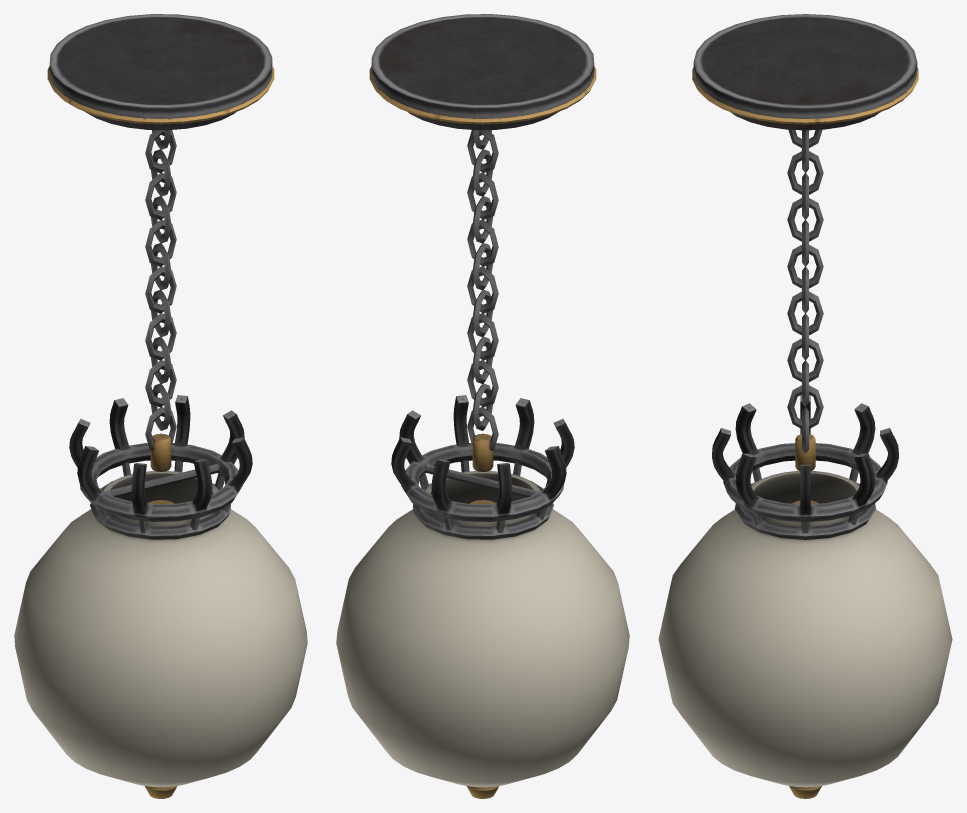
File: DormCeilingLight.fbx
3 renders of one model, left to right at view 1: azimuth 30°, elevation 25°; view 2: azimuth 150°, elevation 25°; view 3: azimuth 270°, elevation 25°, orthographic.
Parts seen in each view (by area): view 1: DormCeilingLight_Glass, DormCeilingLight_Main; view 2: DormCeilingLight_Glass, DormCeilingLight_Main; view 3: DormCeilingLight_Glass, DormCeilingLight_Main.
Boxes of the visible parts, x1,y1,x2,y2 form: DormCeilingLight_Glass: [14, 471, 307, 787]; DormCeilingLight_Main: [47, 14, 274, 798]; DormCeilingLight_Glass: [336, 471, 629, 787]; DormCeilingLight_Main: [369, 14, 596, 798]; DormCeilingLight_Glass: [658, 471, 952, 787]; DormCeilingLight_Main: [692, 14, 918, 798].
Bounding box in the file's own units: 100 × 275 × 100.
